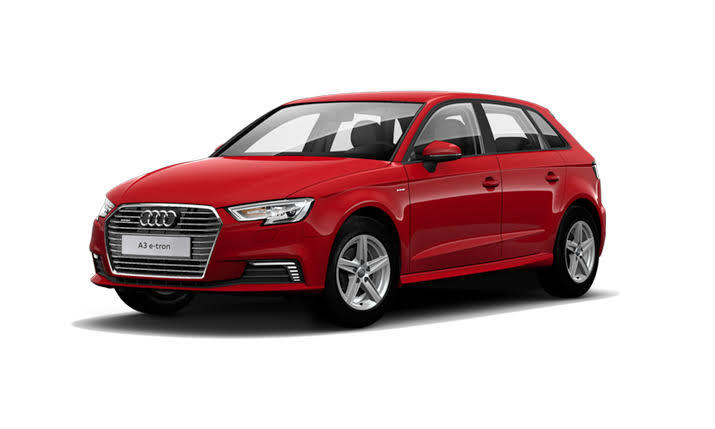audi: (79, 83, 610, 338)
